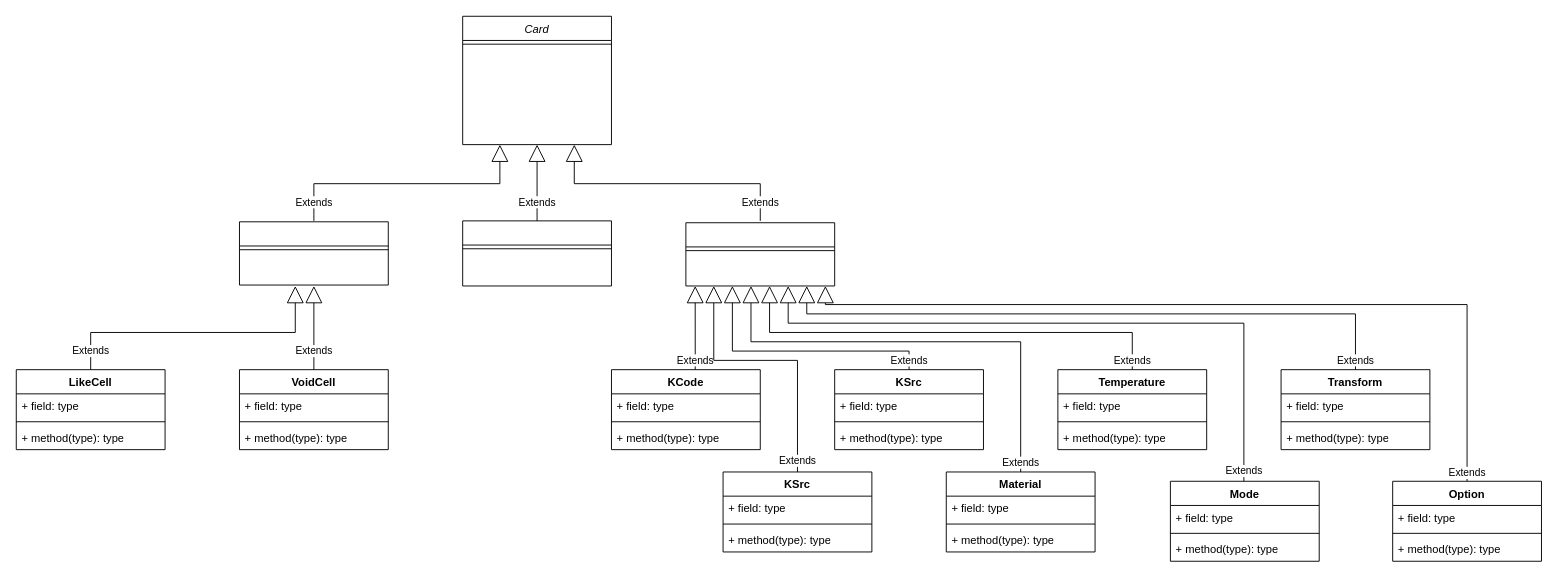
Some shapes in this 1558 by 580 pixel diagram are drawn without their labels. Here are the shapes that lost their labels. From the top down, the centre of each, then its label:
pixel 313 253: Cell
pixel 536 253: Surface
pixel 760 254: DataCard
